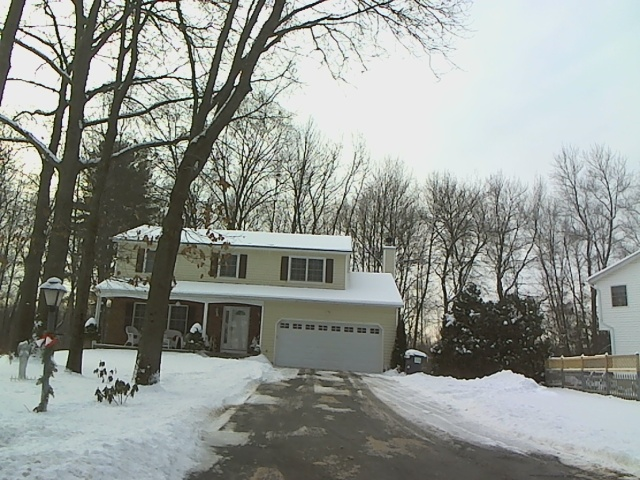Ploughed: (254, 362, 427, 474)
